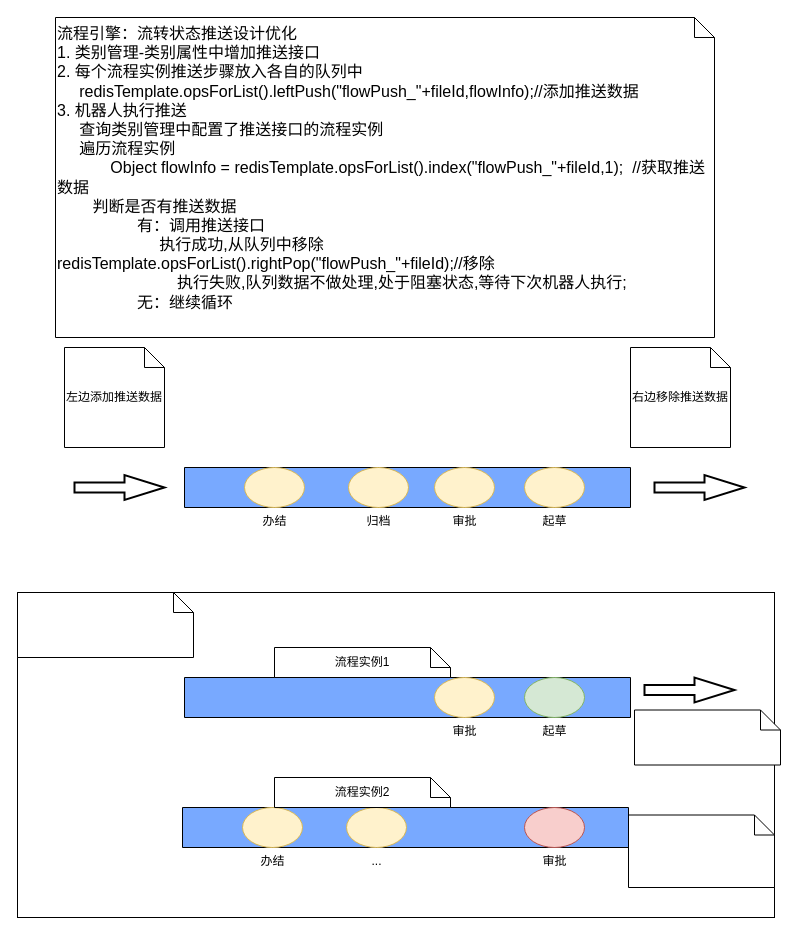
Image size: 798x935. Some labels were removed from this diagram. Each missing label, with the centre of its shape:
"推送失败,阻塞,等待下次机器人触发" goes at [701,851].
"推送成功,移除" goes at [707,737].
"机器人遍历所有需要推送的流程实例数据，从右边获取数据" goes at [105,625].
